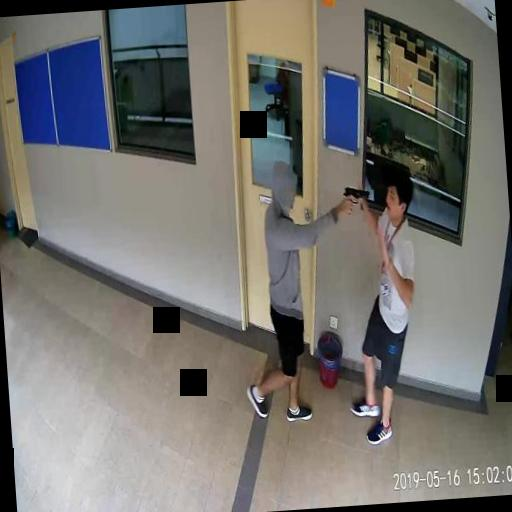Handgun: (343, 183, 369, 214)
